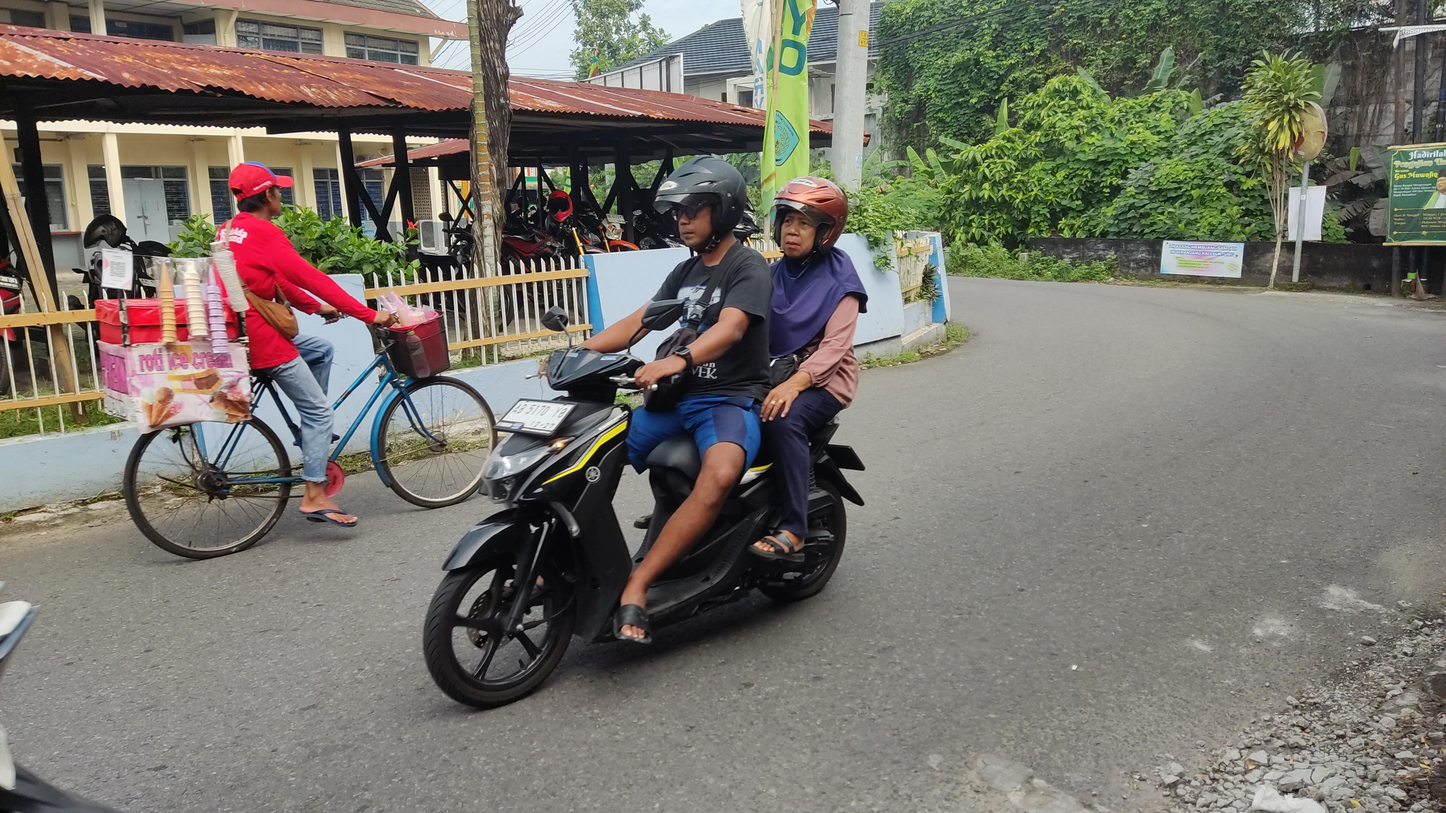helm: (647, 149, 752, 265), (764, 163, 856, 272)
riding: (427, 143, 877, 721)
